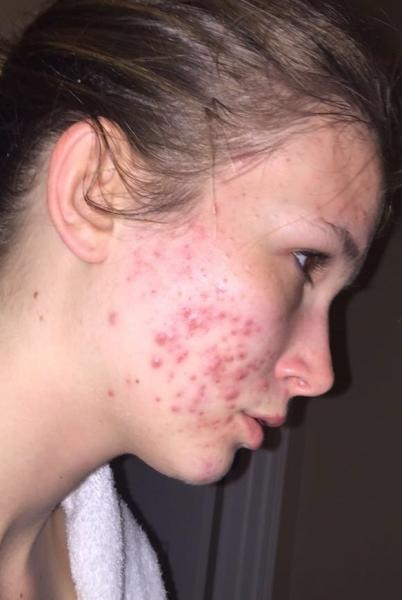Acne: (92, 187, 292, 441)
